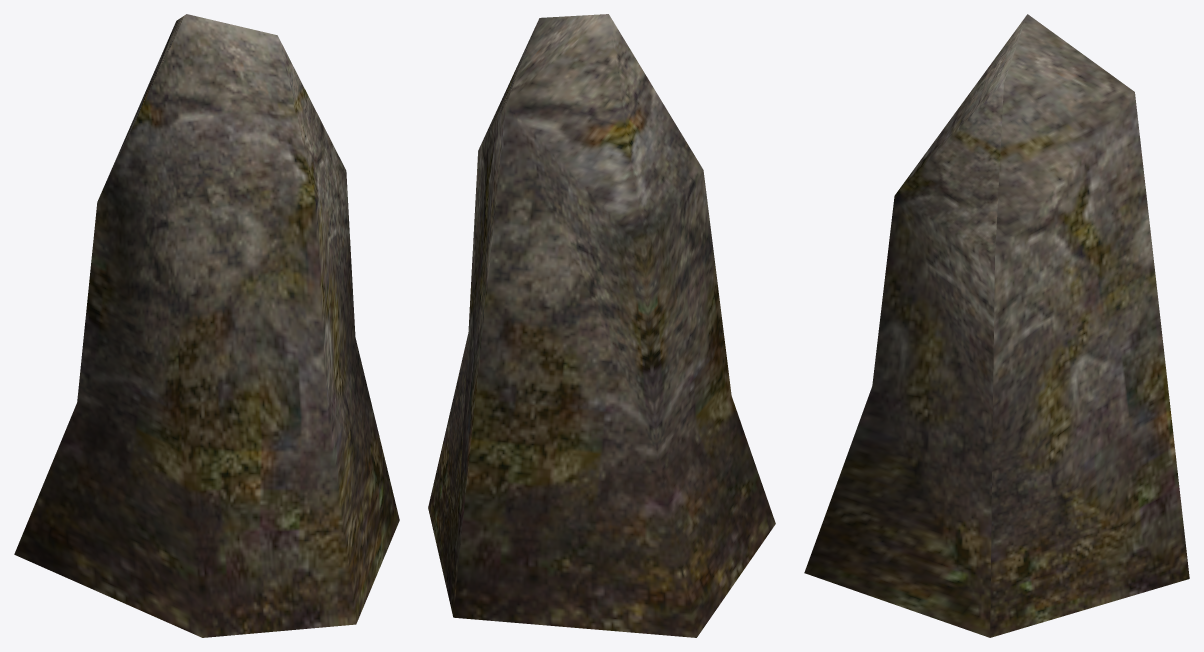
File: hazz_shitou_02.FBX
The picture shows the model from 3 angles, left to right: view 1: azimuth 30°, elevation 25°; view 2: azimuth 150°, elevation 25°; view 3: azimuth 270°, elevation 25°; orthographic projection. The views are drawn at different scales.
Visible parts, largest first — view 1: hazz_shitou_02; view 2: hazz_shitou_02; view 3: hazz_shitou_02.
Boxes of the visible parts, x1,y1,x2,y2 form: hazz_shitou_02: (14,14,399,637); hazz_shitou_02: (428,14,775,637); hazz_shitou_02: (804,14,1189,637).
Size of the model in its own units: 121 by 193 by 127.
